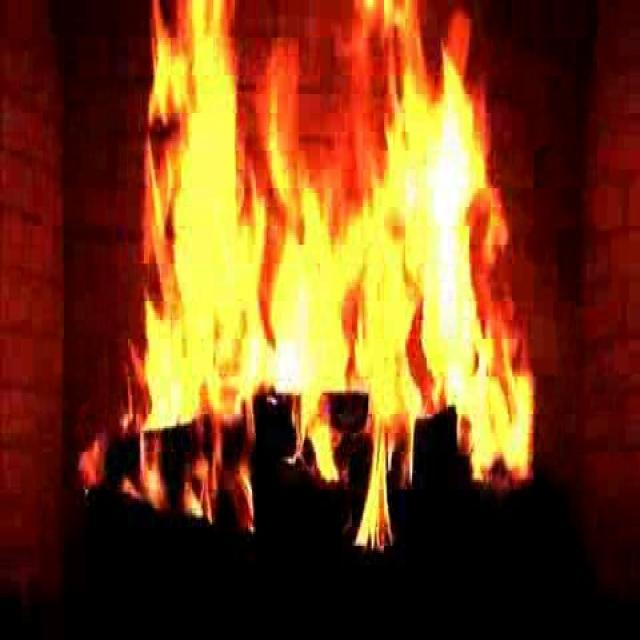Fire: (137, 18, 526, 540)
